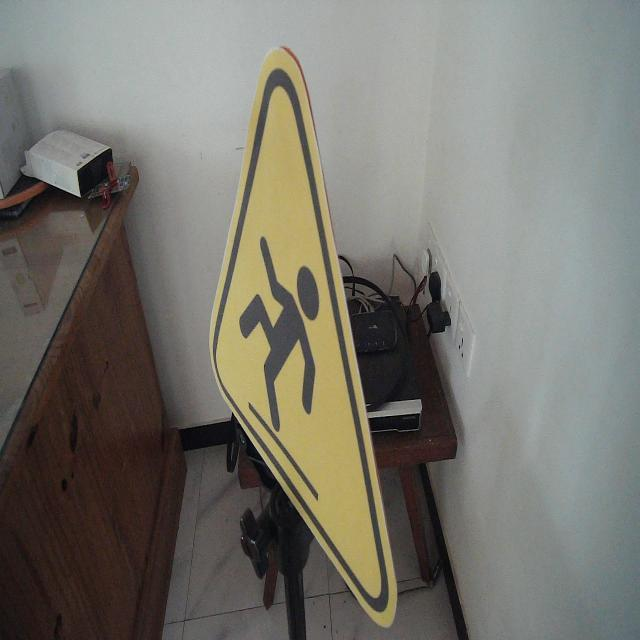slippery_sign: (208, 41, 400, 634)
